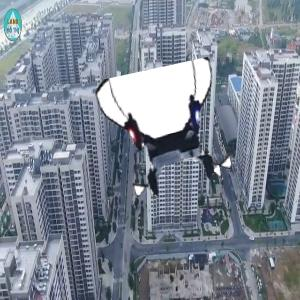drone: (104, 68, 235, 199)
